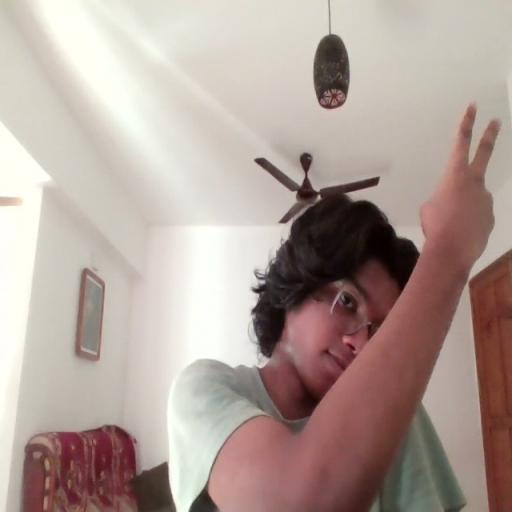scissor: (420, 102, 502, 259)
